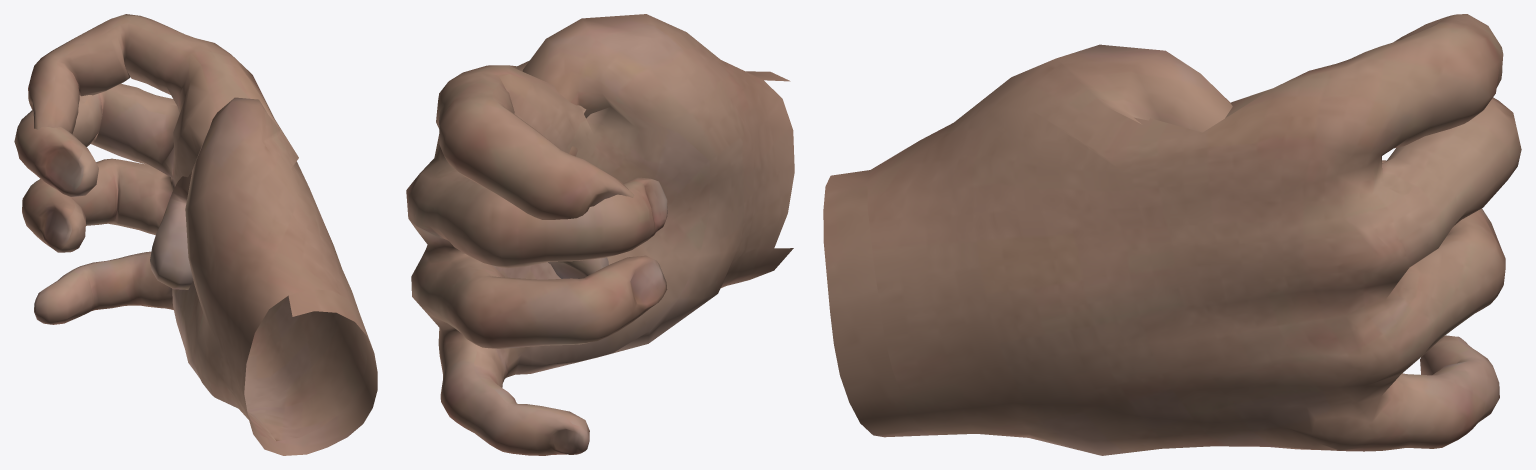
File: hand.glb
3 renders of one model, left to right at view 1: azimuth 30°, elevation 25°; view 2: azimuth 150°, elevation 25°; view 3: azimuth 270°, elevation 25°, orthographic. The views are drawn at different scales.
Parts seen in each view (by area): view 1: HandR; view 2: HandR; view 3: HandR.
Part boxes in pixels (x1,y1,x2,y2): HandR: (14,14,377,455); HandR: (406,14,794,455); HandR: (823,14,1521,455).
Size of the model in its own units: 0.0787 by 0.1018 by 0.1557.
1 material, 1 textured.
